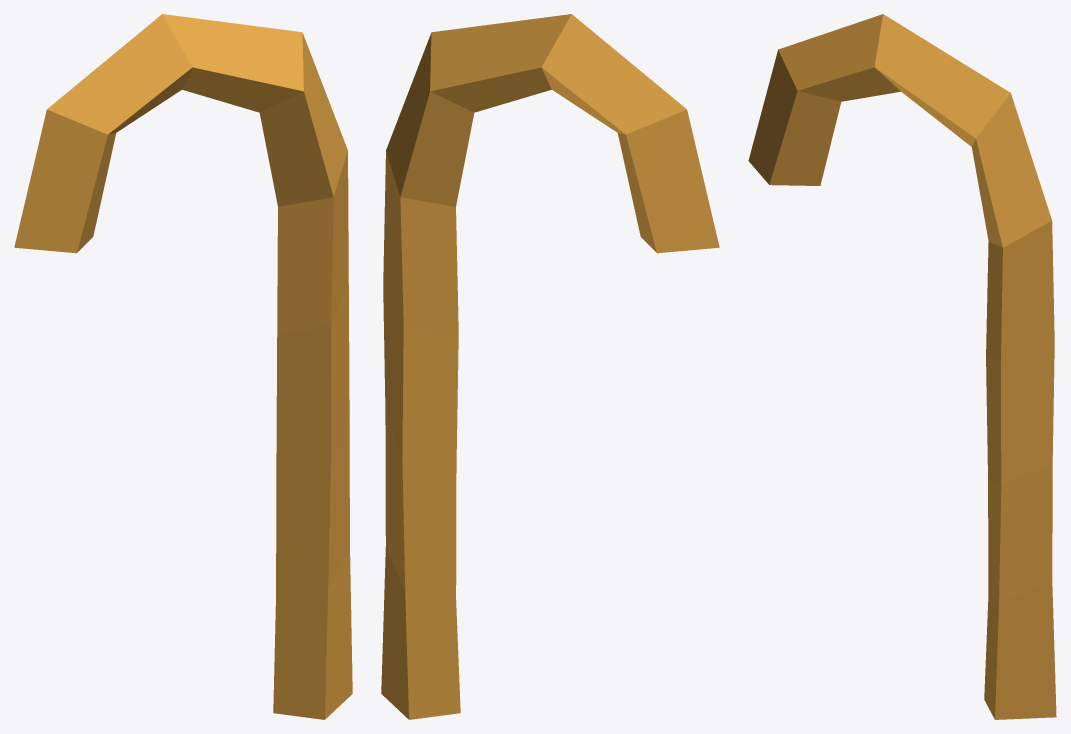
File: candy-stick.fbx
3 views of the same model, side by side, from view 1: azimuth 30°, elevation 25°; view 2: azimuth 150°, elevation 25°; view 3: azimuth 330°, elevation 25° (orthographic). The views are drawn at different scales.
Parts seen in each view (by area): view 1: candy-stick; view 2: candy-stick; view 3: candy-stick.
Part boxes in pixels (<box>): candy-stick: <box>14,14,352,719</box>; candy-stick: <box>381,14,719,719</box>; candy-stick: <box>748,14,1056,719</box>.
Size of the model in its own units: 0.096 by 0.1968 by 0.0197.
